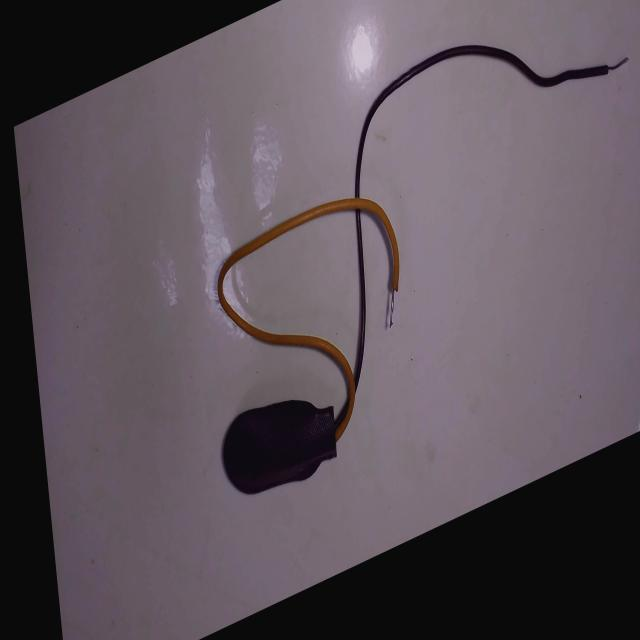Battery Holder: (193, 136, 423, 525)
